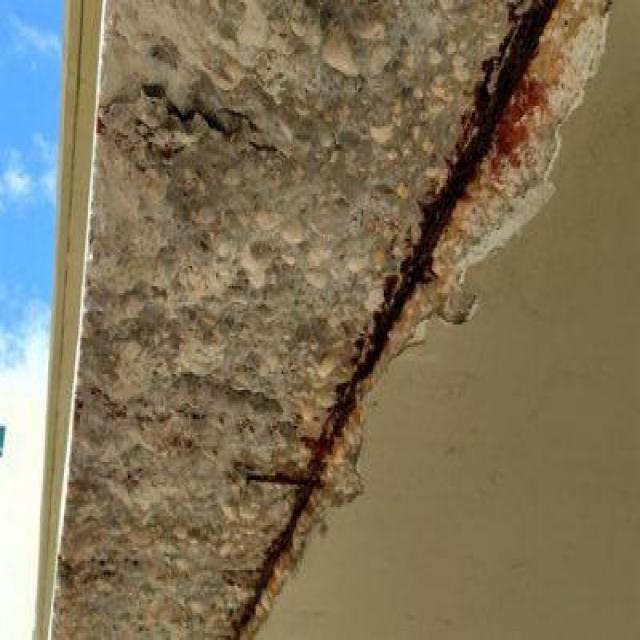Rebar: (46, 0, 608, 638)
